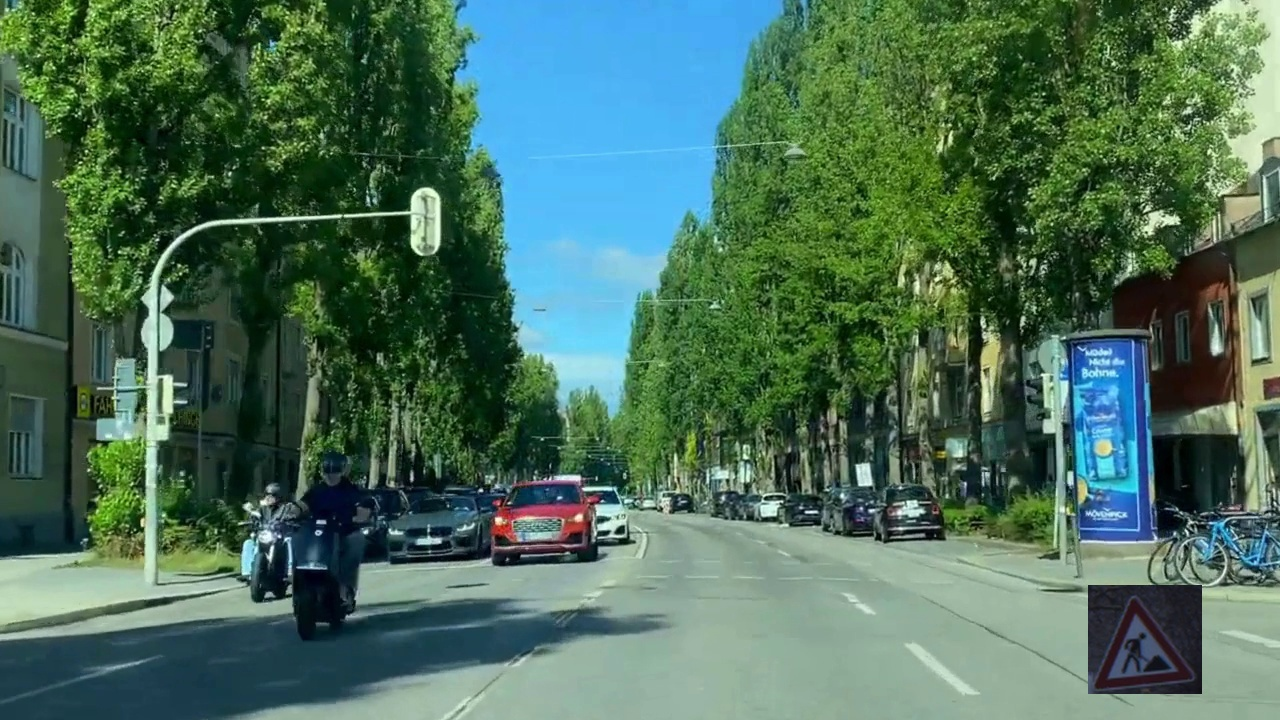Road work: (1088, 585, 1202, 694)
